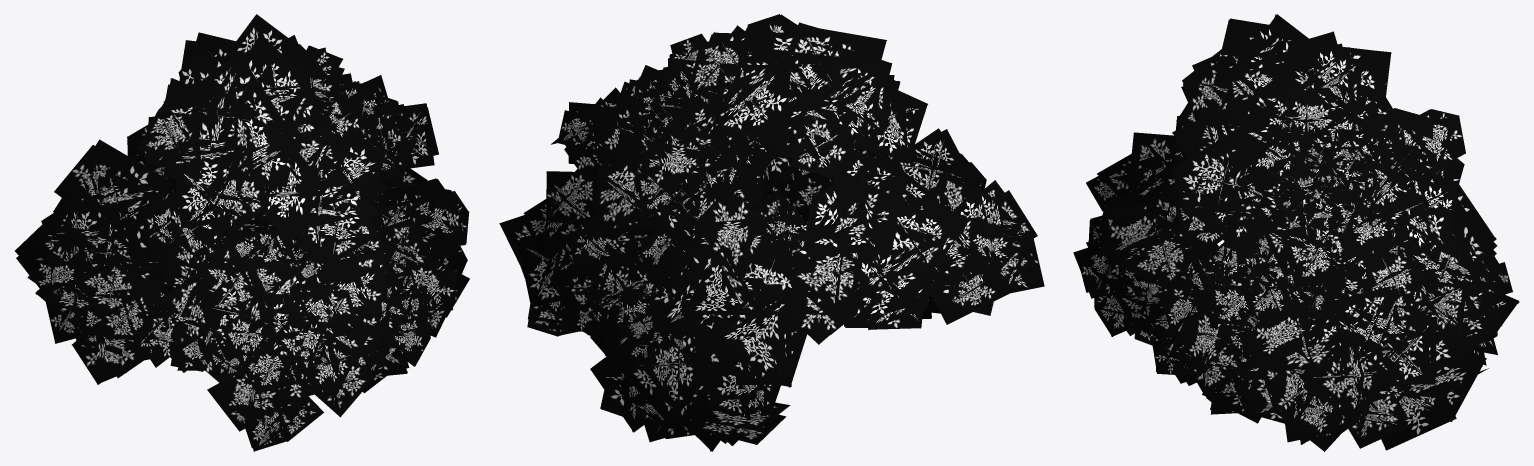
The model's file is TreeTest02.FBX.
3 renders of one model, left to right at view 1: azimuth 30°, elevation 25°; view 2: azimuth 150°, elevation 25°; view 3: azimuth 270°, elevation 25°, orthographic. The views are drawn at different scales.
Visible parts, largest first — view 1: treetest_PH_CMC_TreeLeaf_01; view 2: treetest_PH_CMC_TreeLeaf_01; view 3: treetest_PH_CMC_TreeLeaf_01.
Boxes of the visible parts, left/top/right/bottom form: treetest_PH_CMC_TreeLeaf_01: left=15, top=14, right=469, bottom=451; treetest_PH_CMC_TreeLeaf_01: left=499, top=14, right=1044, bottom=451; treetest_PH_CMC_TreeLeaf_01: left=1073, top=14, right=1519, bottom=451.
Size of the model in its own units: 1755 by 1386 by 1492.
